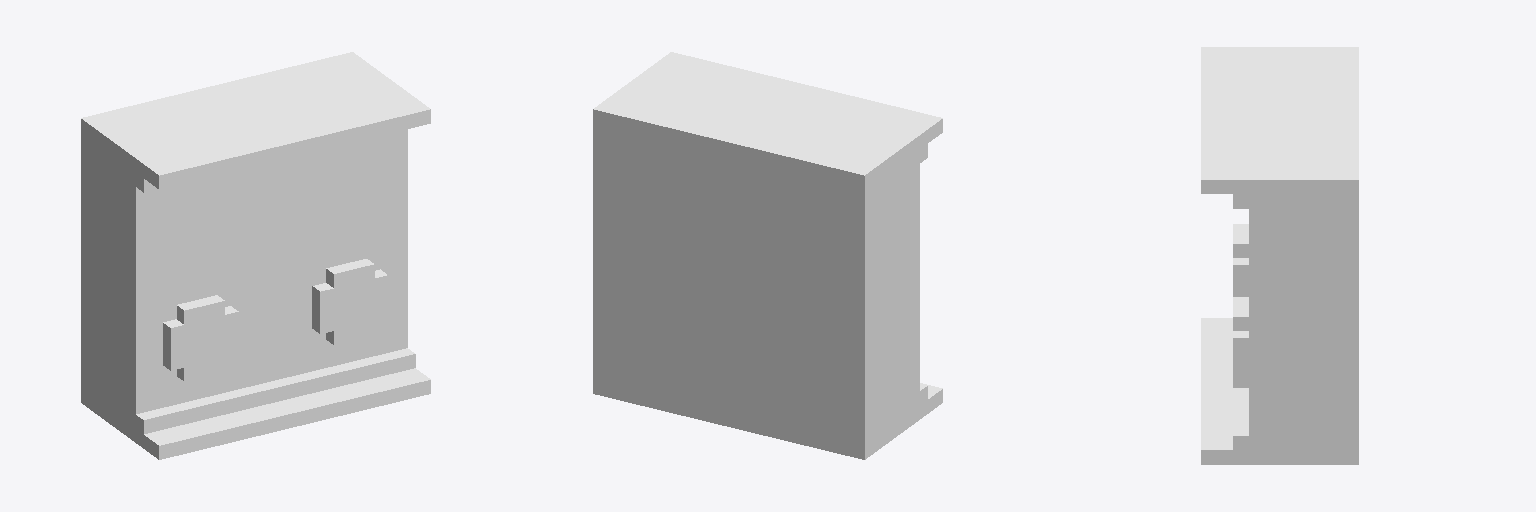
File: PowerSupply.obj
3 renders of one model, left to right at view 1: azimuth 30°, elevation 25°; view 2: azimuth 150°, elevation 25°; view 3: azimuth 270°, elevation 25°, orthographic.
Visible parts, largest first — view 1: PowerSupply; view 2: PowerSupply; view 3: PowerSupply.
Boxes of the visible parts, x1,y1,x2,y2 form: PowerSupply: [81, 52, 430, 459]; PowerSupply: [593, 52, 942, 459]; PowerSupply: [1201, 47, 1358, 464].
Size of the model in its own units: 20 by 20 by 10.